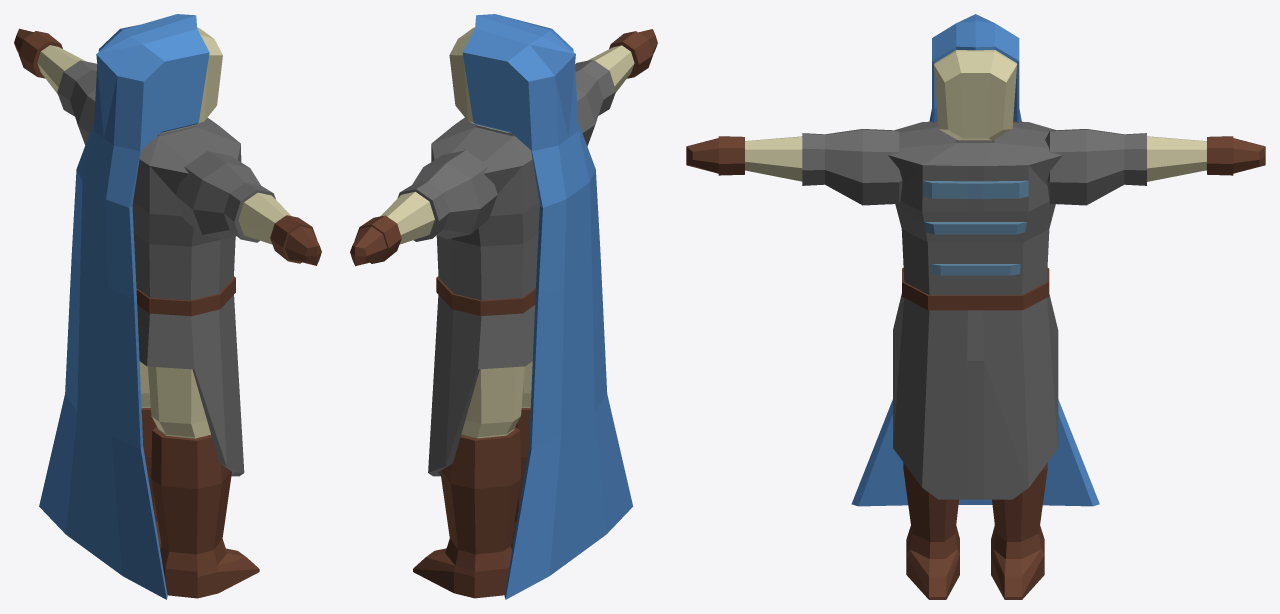
File: Smith T-Pose.fbx
3 views of the same model, side by side, from view 1: azimuth 30°, elevation 25°; view 2: azimuth 150°, elevation 25°; view 3: azimuth 270°, elevation 25° (orthographic). The views are drawn at different scales.
Visible parts, largest first — view 1: Hunter Cloak (Head), Smith Tunic (Body), Smith Boots (Legs), Basic Hunter; view 2: Hunter Cloak (Head), Smith Tunic (Body), Smith Boots (Legs), Basic Hunter; view 3: Smith Tunic (Body), Basic Hunter, Smith Boots (Legs), Hunter Cloak (Head).
Part boxes in pixels (left/top/right/bottom): Hunter Cloak (Head): left=39, top=14, right=209, bottom=599; Smith Tunic (Body): left=14, top=28, right=321, bottom=476; Smith Boots (Legs): left=141, top=408, right=259, bottom=598; Basic Hunter: left=37, top=27, right=291, bottom=438; Hunter Cloak (Head): left=462, top=14, right=633, bottom=599; Smith Tunic (Body): left=350, top=29, right=657, bottom=476; Smith Boots (Legs): left=413, top=408, right=530, bottom=598; Basic Hunter: left=380, top=27, right=634, bottom=438; Smith Tunic (Body): left=686, top=121, right=1265, bottom=499; Basic Hunter: left=745, top=50, right=1206, bottom=181; Smith Boots (Legs): left=903, top=462, right=1047, bottom=599; Hunter Cloak (Head): left=851, top=14, right=1099, bottom=506.
Bounding box in the file's own units: 249 × 922 × 907.
